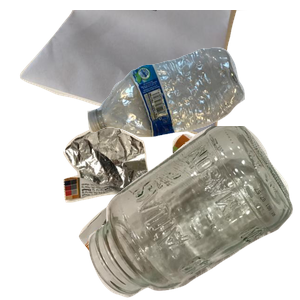glass: (86, 126, 300, 300)
paper: (17, 10, 254, 141)
plastic: (85, 45, 300, 175)
trash: (61, 123, 273, 300)
